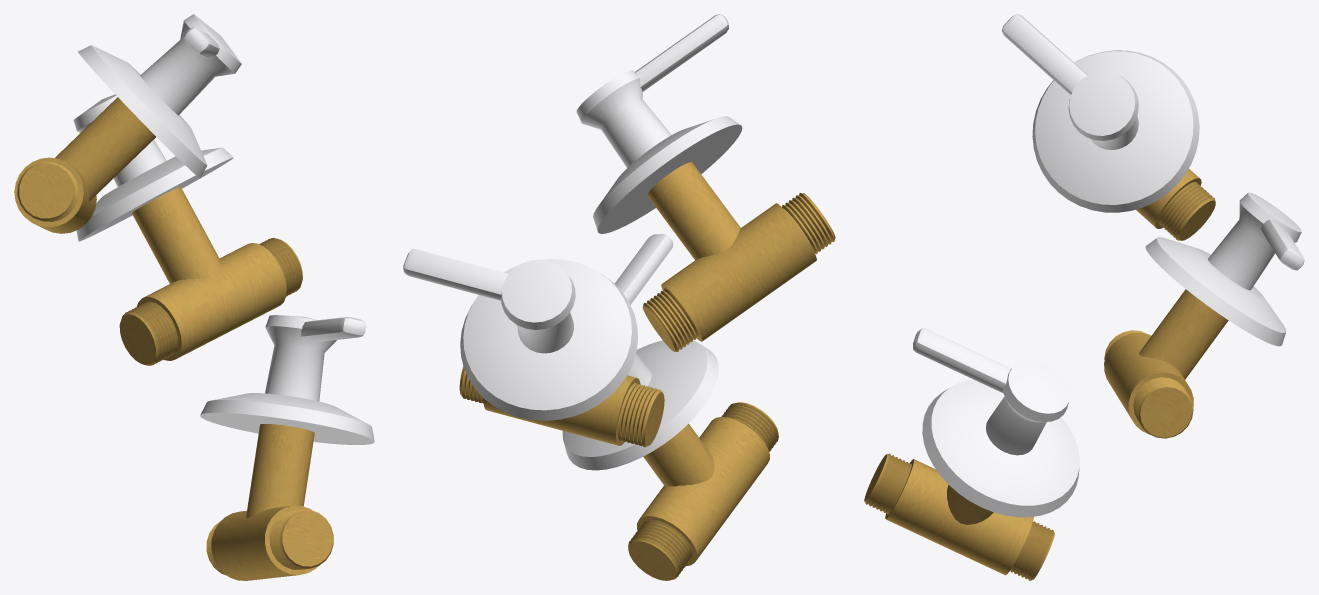
File: HID-REG-003_anim.glb
3 views of the same model, side by side, from view 1: azimuth 30°, elevation 25°; view 2: azimuth 150°, elevation 25°; view 3: azimuth 270°, elevation 25° (orthographic). The views are drawn at different scales.
Parts seen in each view (by area): view 1: HID-REG-003_anim0, HID-REG-003_anim1, HID-REG-003_anim2; view 2: HID-REG-003_anim2, HID-REG-003_anim1, HID-REG-003_anim0; view 3: HID-REG-003_anim0, HID-REG-003_anim2, HID-REG-003_anim1.
Boxes of the visible parts, left/top/right/bottom form: HID-REG-003_anim0: left=200, top=315, right=374, bottom=580; HID-REG-003_anim1: left=73, top=94, right=302, bottom=365; HID-REG-003_anim2: left=14, top=14, right=241, bottom=233; HID-REG-003_anim2: left=576, top=14, right=835, bottom=351; HID-REG-003_anim1: left=403, top=249, right=664, bottom=447; HID-REG-003_anim0: left=562, top=234, right=778, bottom=580; HID-REG-003_anim0: left=864, top=328, right=1079, bottom=580; HID-REG-003_anim2: left=1001, top=14, right=1215, bottom=240; HID-REG-003_anim1: left=1104, top=192, right=1304, bottom=438.
Size of the model in its own units: 0.1577 by 0.2683 by 0.1984.
Materials: 2 (1 with a texture image).
